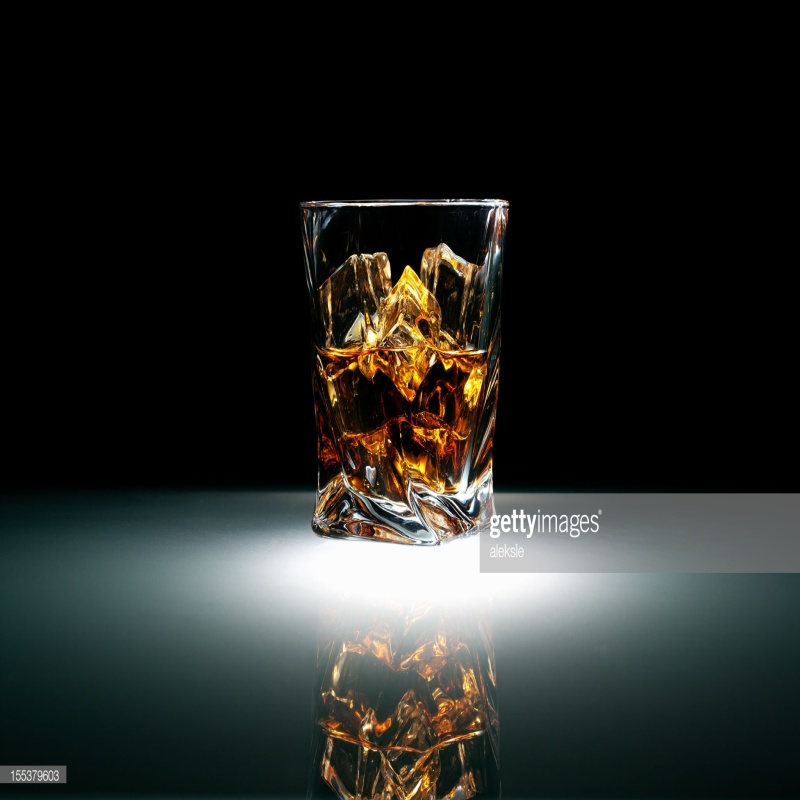whiskey: (321, 185, 523, 543)
